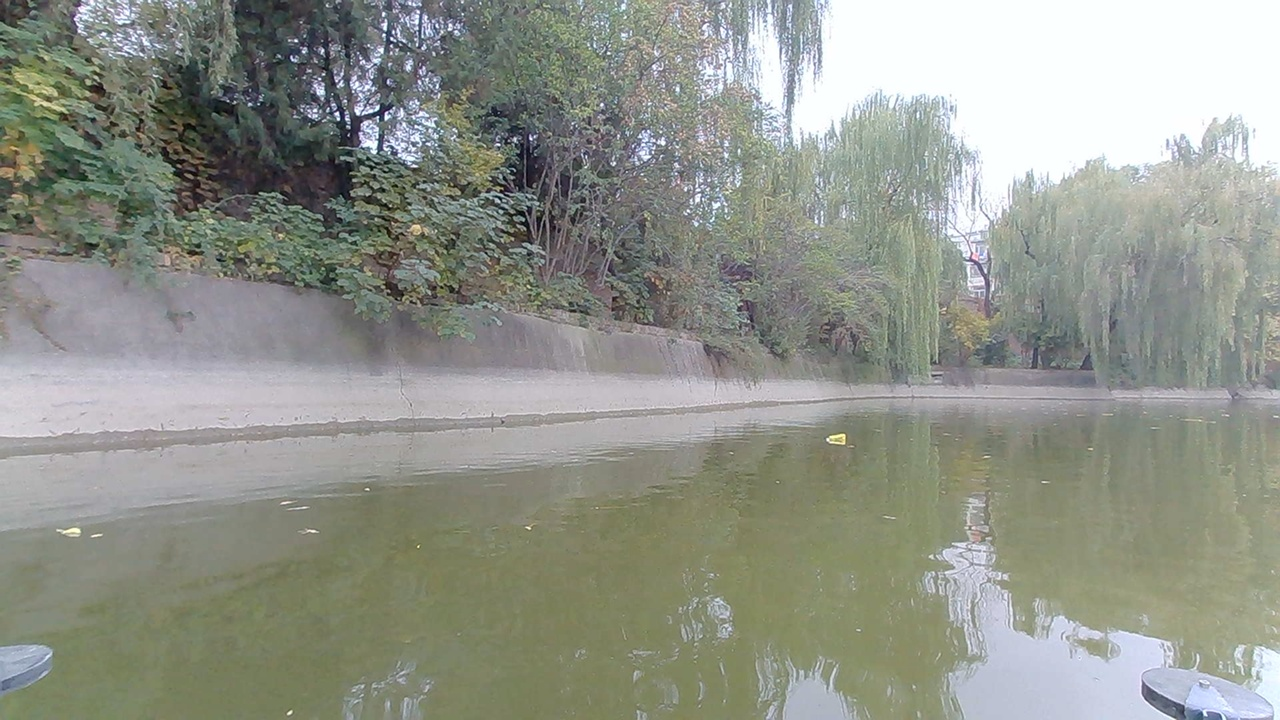bottle: (819, 428, 853, 451)
